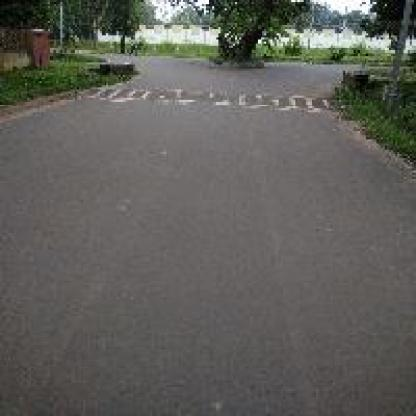Speed Bump: (83, 81, 337, 112)
